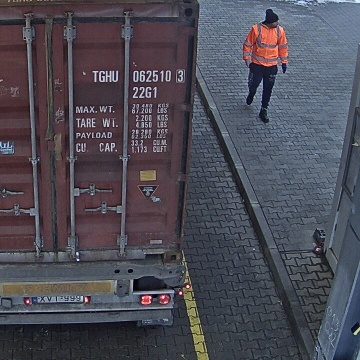serial_id: (92, 70, 183, 82)
